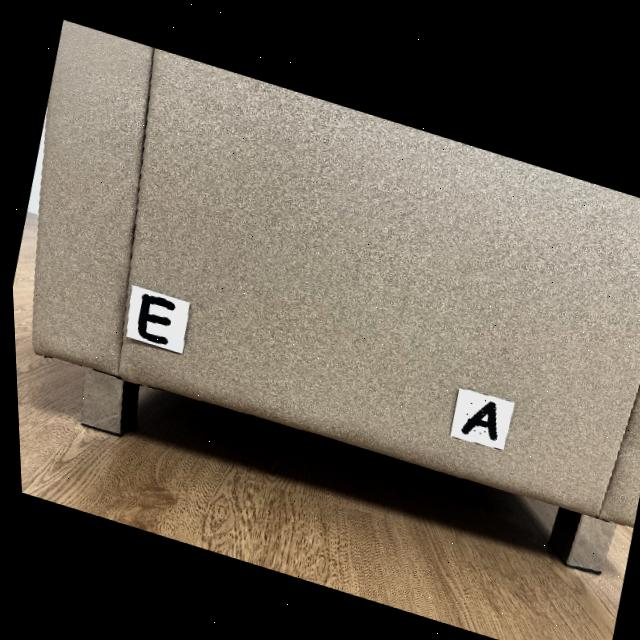A: (458, 393, 493, 433)
E: (134, 292, 172, 342)
